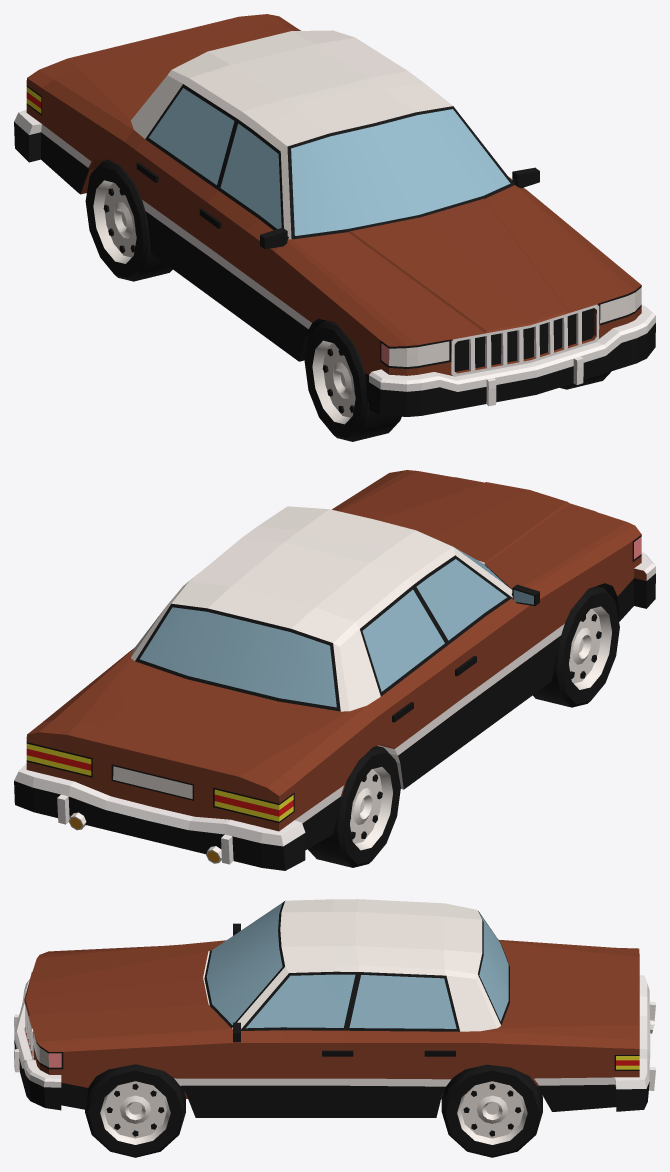
File: Classic Car_9.fbx
The picture shows the model from 3 angles, top to bottom: view 1: azimuth 30°, elevation 25°; view 2: azimuth 150°, elevation 25°; view 3: azimuth 270°, elevation 25°; orthographic projection. The views are drawn at different scales.
Parts seen in each view (by area): view 1: Classic Car_9 FL Tire; view 2: Classic Car_9 FL Tire; view 3: Classic Car_9 FL Tire.
Boxes of the visible parts, <box> form: Classic Car_9 FL Tire: <box>14,14,655,441</box>; Classic Car_9 FL Tire: <box>14,470,655,870</box>; Classic Car_9 FL Tire: <box>14,899,655,1157</box>.
Bounding box in the file's own units: 202 × 153 × 497.
1 material, 1 textured.
